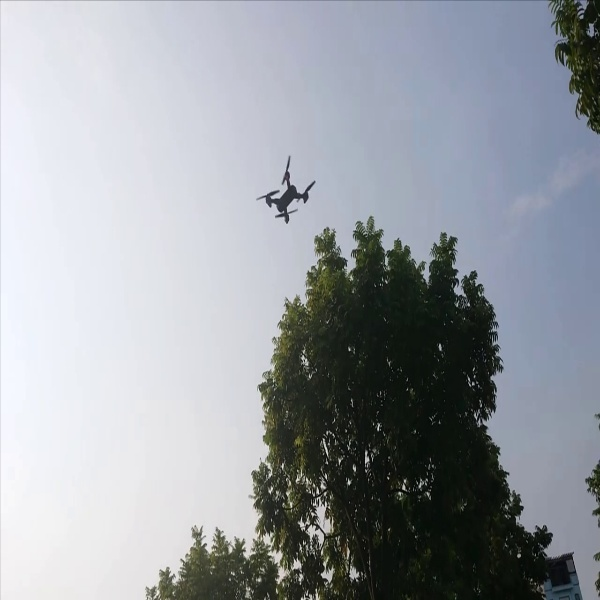drone: (247, 148, 314, 230)
